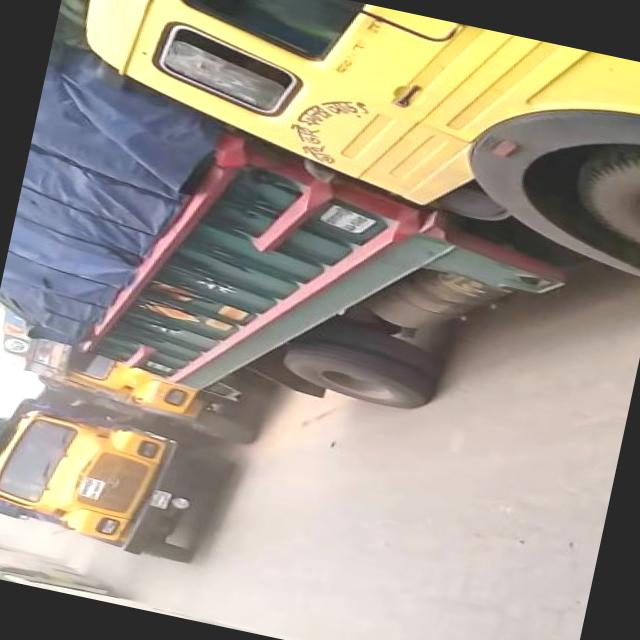truck: (0, 0, 640, 475), (0, 384, 241, 573), (0, 308, 269, 445)
